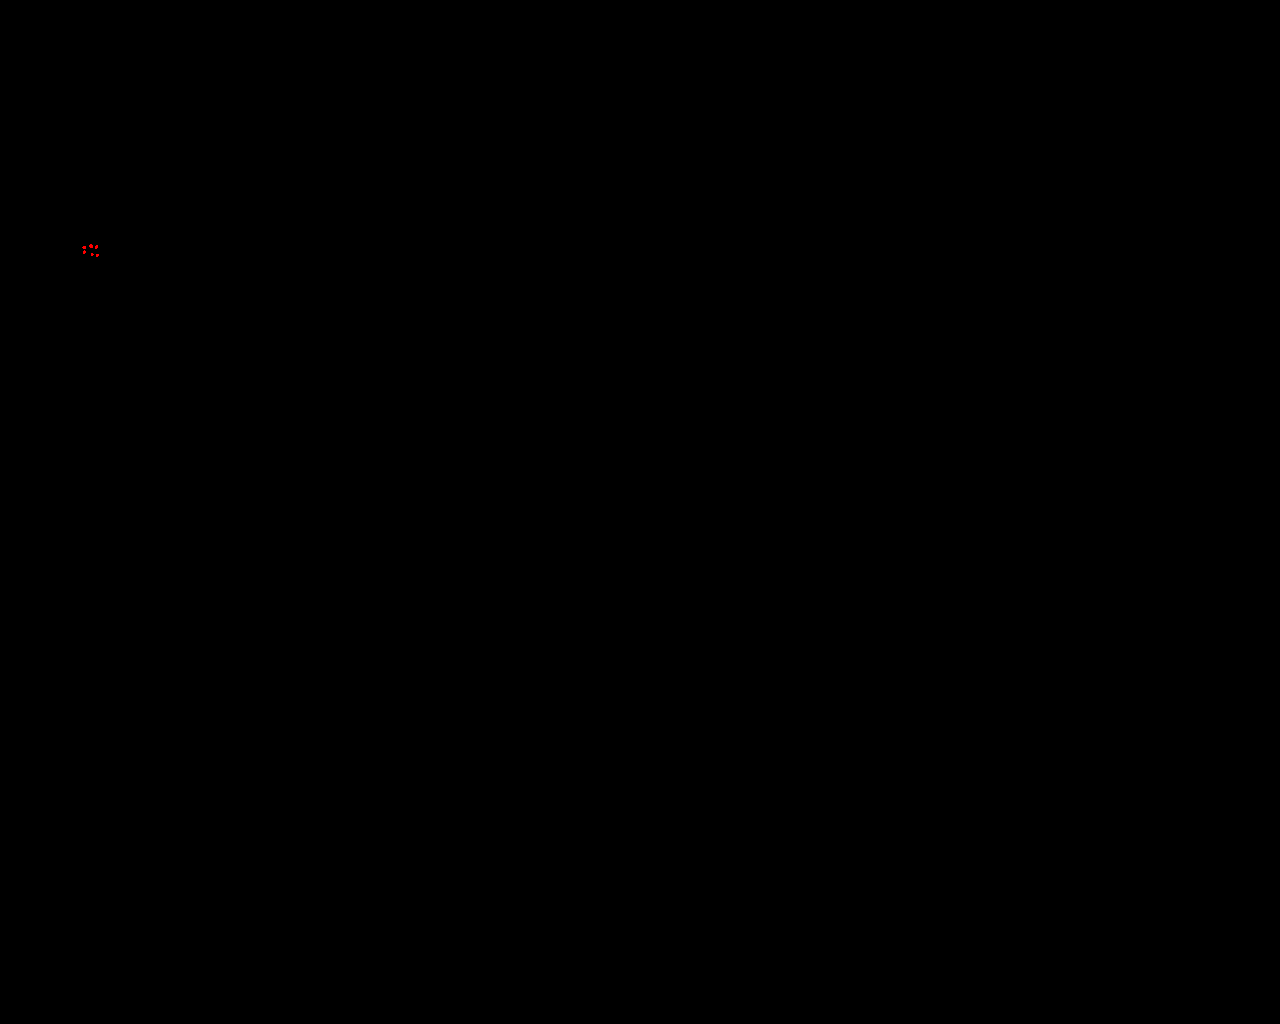Target: (89, 245, 93, 248), (95, 245, 98, 249), (82, 246, 86, 249), (83, 250, 86, 254), (91, 253, 94, 256), (96, 254, 99, 257)
